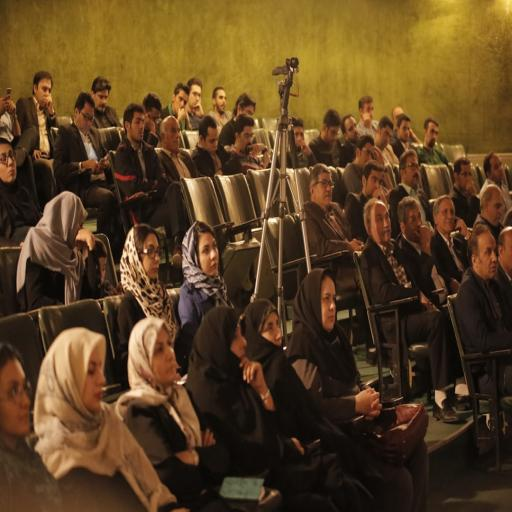face: (0, 358, 30, 447), (151, 326, 178, 388), (82, 348, 106, 413), (472, 233, 497, 280), (367, 202, 391, 245), (140, 234, 160, 280), (198, 232, 218, 276), (481, 189, 504, 227), (400, 206, 423, 243), (434, 198, 455, 238), (260, 311, 283, 347), (321, 277, 336, 332), (310, 172, 332, 209), (160, 118, 181, 154), (400, 154, 420, 189), (0, 144, 17, 184), (498, 229, 512, 275), (74, 102, 94, 134), (230, 323, 247, 360), (362, 169, 383, 198), (125, 112, 144, 144), (454, 164, 474, 192), (200, 126, 218, 156), (33, 78, 52, 106), (235, 126, 254, 153), (488, 154, 504, 184), (355, 142, 374, 167), (360, 96, 375, 127), (91, 89, 109, 113), (172, 90, 188, 116), (375, 126, 393, 149), (344, 117, 359, 144), (212, 89, 226, 115), (424, 122, 438, 148), (188, 84, 202, 109), (323, 124, 340, 144), (397, 120, 411, 144), (146, 106, 162, 126), (293, 126, 305, 148)
